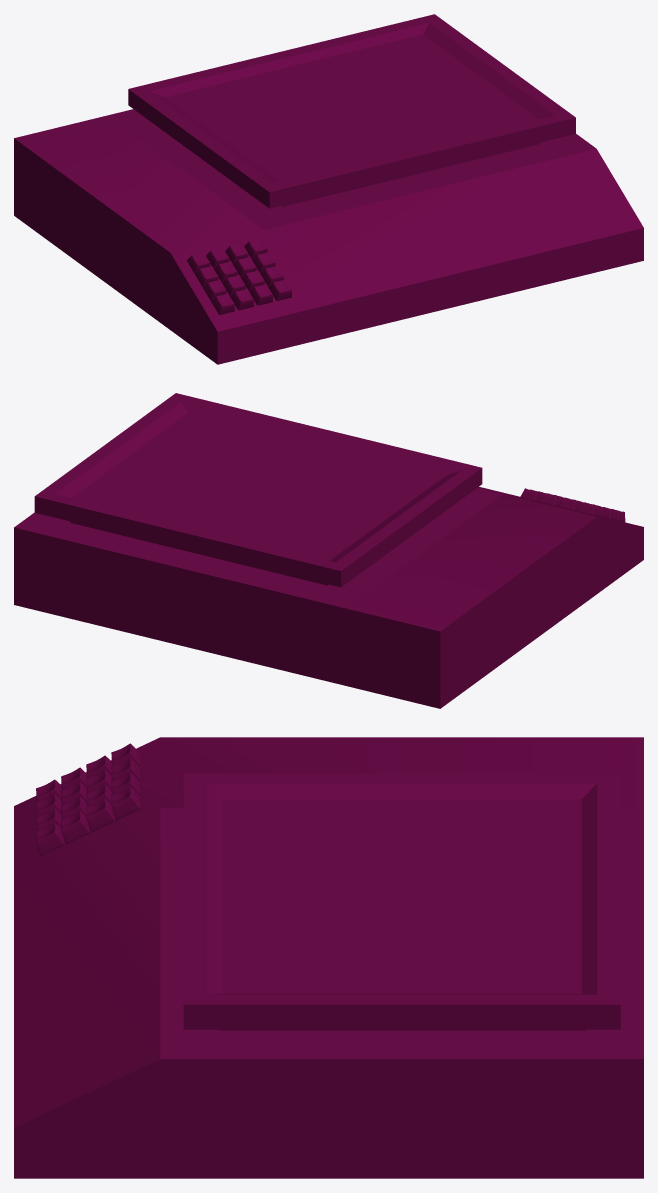
File: MY_Calculator.fbx
3 views of the same model, one above another, from view 1: azimuth 30°, elevation 25°; view 2: azimuth 150°, elevation 25°; view 3: azimuth 270°, elevation 25° (orthographic). The views are drawn at different scales.
Visible parts, largest first — view 1: Box014; view 2: Box014; view 3: Box014.
Part boxes in pixels (left/top/right/bottom): Box014: left=14, top=14, right=643, bottom=364; Box014: left=14, top=393, right=643, bottom=708; Box014: left=14, top=737, right=643, bottom=1178.
Bounding box in the file's own units: 31.51 × 7.5 × 26.08.
